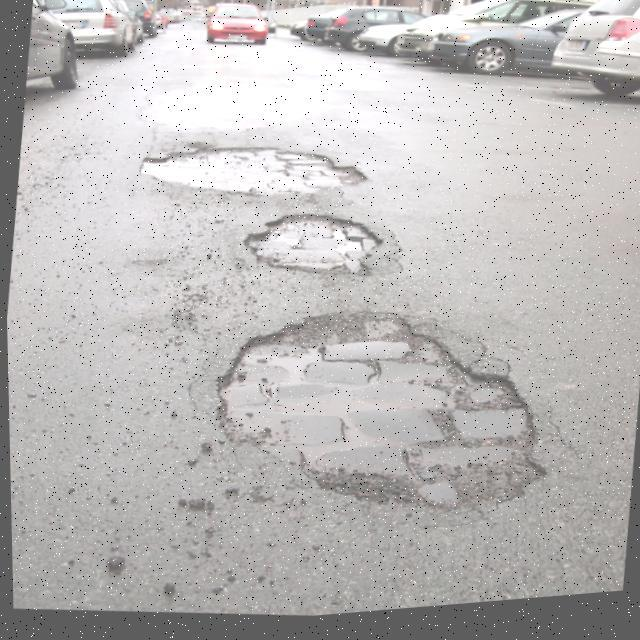pothole: (186, 277, 564, 552), (129, 123, 373, 222), (232, 202, 389, 293)
